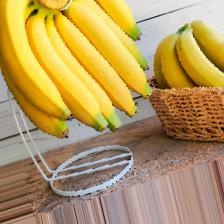banana: (11, 0, 208, 198)
